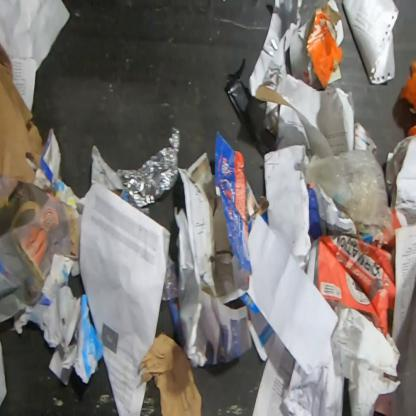cardboard: (315, 208, 410, 338), (214, 128, 268, 278), (0, 40, 44, 185), (138, 332, 202, 416), (306, 3, 345, 90), (39, 128, 63, 187), (308, 186, 324, 242), (400, 59, 416, 115), (256, 85, 294, 108), (407, 125, 415, 137)
metal: (116, 126, 181, 210)
rigid_plastic: (224, 55, 278, 156)
soft_plastic: (300, 148, 392, 233)
